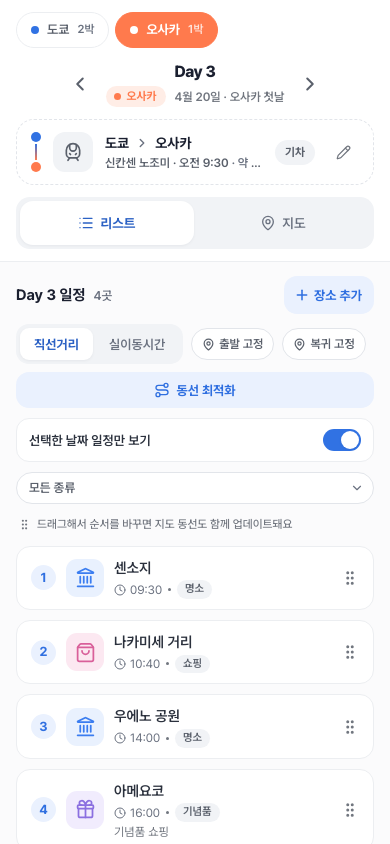
Test: PlanView — 도시 간 이동 카드 › 이동 카드 편집 버튼으로 편집 모달이 열린다
Expected: the text "센소지" is shown, x1=114 y1=558 x2=152 y2=576
Click the button named "이동 편집": [343, 152] box x1=327 y1=136 x2=359 y2=168
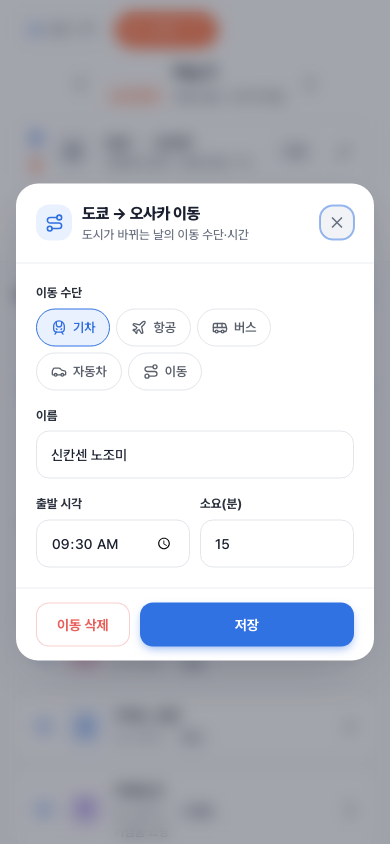
Result: the heading "도쿄 → 오사카 이동" is shown at x1=82 y1=204 x2=200 y2=222
Result: the text "이동 수단" is shown at x1=36 y1=284 x2=82 y2=299
